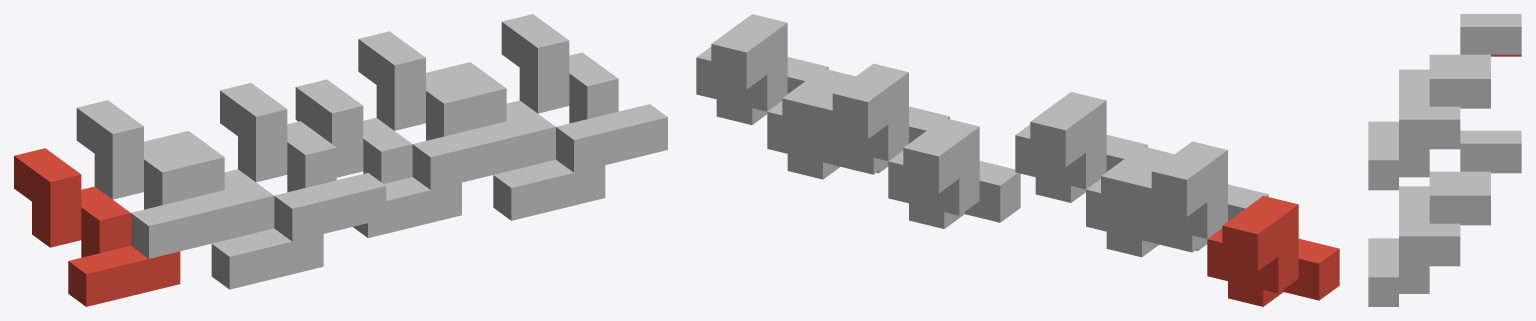
Rendered from tiling.obj.
The picture shows the model from 3 angles, left to right: view 1: azimuth 30°, elevation 25°; view 2: azimuth 150°, elevation 25°; view 3: azimuth 270°, elevation 25°; orthographic projection. The views are drawn at different scales.
Parts seen in each view (by area): view 1: copy_1_domain_7, copy_1_domain_8, copy_1_domain_3, copy_1_domain_4, copy_1_domain_1, copy_1_domain_5, copy_1_domain_2, copy_1_domain_6; view 2: copy_1_domain_1, copy_1_domain_5, copy_1_domain_8, copy_1_domain_4, copy_1_domain_7, copy_1_domain_3, copy_1_domain_2, copy_1_domain_6; view 3: copy_1_domain_4, copy_1_domain_8, copy_1_domain_7, copy_1_domain_3, copy_1_domain_2, copy_1_domain_6.
Part boxes in pixels (x1=…): copy_1_domain_7: x1=358, y1=31, x2=524, y2=189; copy_1_domain_8: x1=501, y1=14, x2=667, y2=172; copy_1_domain_3: x1=76, y1=100, x2=242, y2=258; copy_1_domain_4: x1=220, y1=83, x2=386, y2=241; copy_1_domain_1: x1=14, y1=148, x2=180, y2=306; copy_1_domain_5: x1=295, y1=79, x2=461, y2=237; copy_1_domain_2: x1=157, y1=131, x2=323, y2=289; copy_1_domain_6: x1=439, y1=62, x2=605, y2=220; copy_1_domain_1: x1=1207, y1=196, x2=1339, y2=306; copy_1_domain_5: x1=888, y1=118, x2=1020, y2=228; copy_1_domain_8: x1=696, y1=14, x2=828, y2=124; copy_1_domain_4: x1=1015, y1=92, x2=1147, y2=202; copy_1_domain_7: x1=817, y1=63, x2=949, y2=174; copy_1_domain_3: x1=1136, y1=141, x2=1268, y2=252; copy_1_domain_2: x1=1086, y1=146, x2=1207, y2=257; copy_1_domain_6: x1=767, y1=68, x2=888, y2=179; copy_1_domain_4: x1=1368, y1=66, x2=1490, y2=188; copy_1_domain_8: x1=1368, y1=182, x2=1490, y2=304; copy_1_domain_7: x1=1399, y1=130, x2=1521, y2=223; copy_1_domain_3: x1=1399, y1=14, x2=1521, y2=106; copy_1_domain_2: x1=1368, y1=106, x2=1490, y2=190; copy_1_domain_6: x1=1368, y1=223, x2=1490, y2=306.
Bounding box in the file's own units: 18 × 4 × 5.
